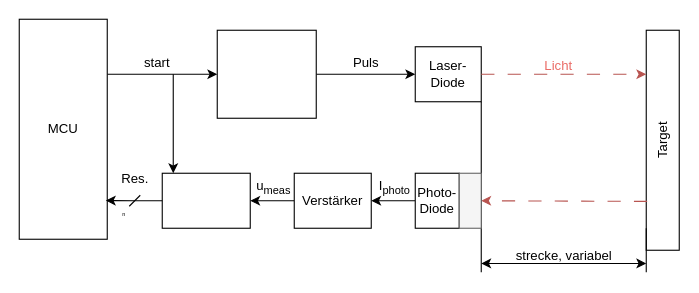
The diagram is 699 pixels wide and 293 high, and some of its shapes have lost their labels. Each missing label, with the centre of its shape:
"Digitalisierung" belongs at [205,200].
"Laser-Treiber" belongs at [266,73].
"Optik" belongs at [469,200].
